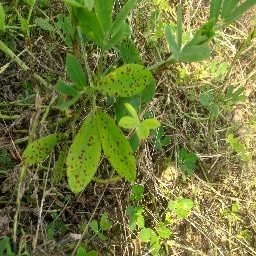GroundNut_Leaf: (68, 113, 98, 194), (100, 113, 134, 182), (98, 64, 153, 96), (69, 1, 106, 45), (178, 26, 215, 64), (23, 133, 61, 165), (66, 54, 86, 87), (118, 39, 141, 59), (179, 149, 196, 173), (127, 209, 144, 227), (177, 200, 194, 216), (226, 1, 233, 21), (1, 1, 5, 34)
